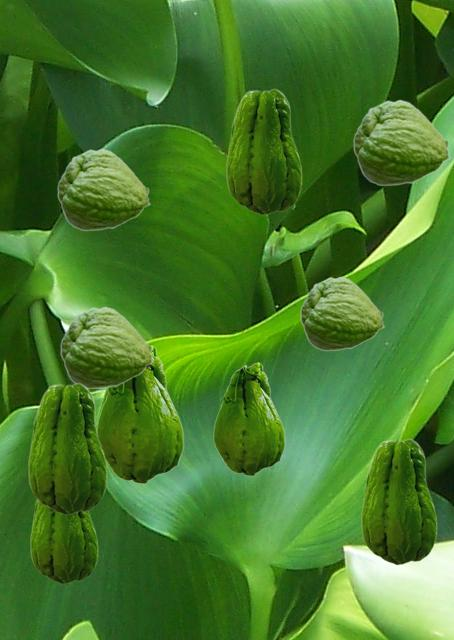sayote: (97, 345, 183, 483), (28, 382, 106, 514), (361, 438, 436, 564), (226, 88, 301, 214), (353, 99, 450, 185), (213, 362, 284, 475), (60, 306, 153, 388), (57, 148, 150, 230), (300, 276, 384, 350), (30, 499, 97, 583)
